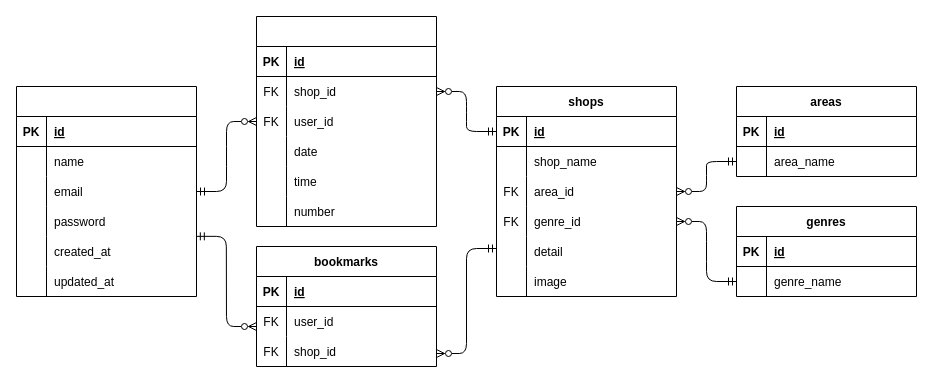
The diagram is 933 pixels wide and 383 high, and some of its shapes have lost their labels. The box of each missing label's shape, as (x1, y1, x2, y2) in pixels:
bookings: (256, 16, 436, 226)
users: (16, 86, 196, 296)
